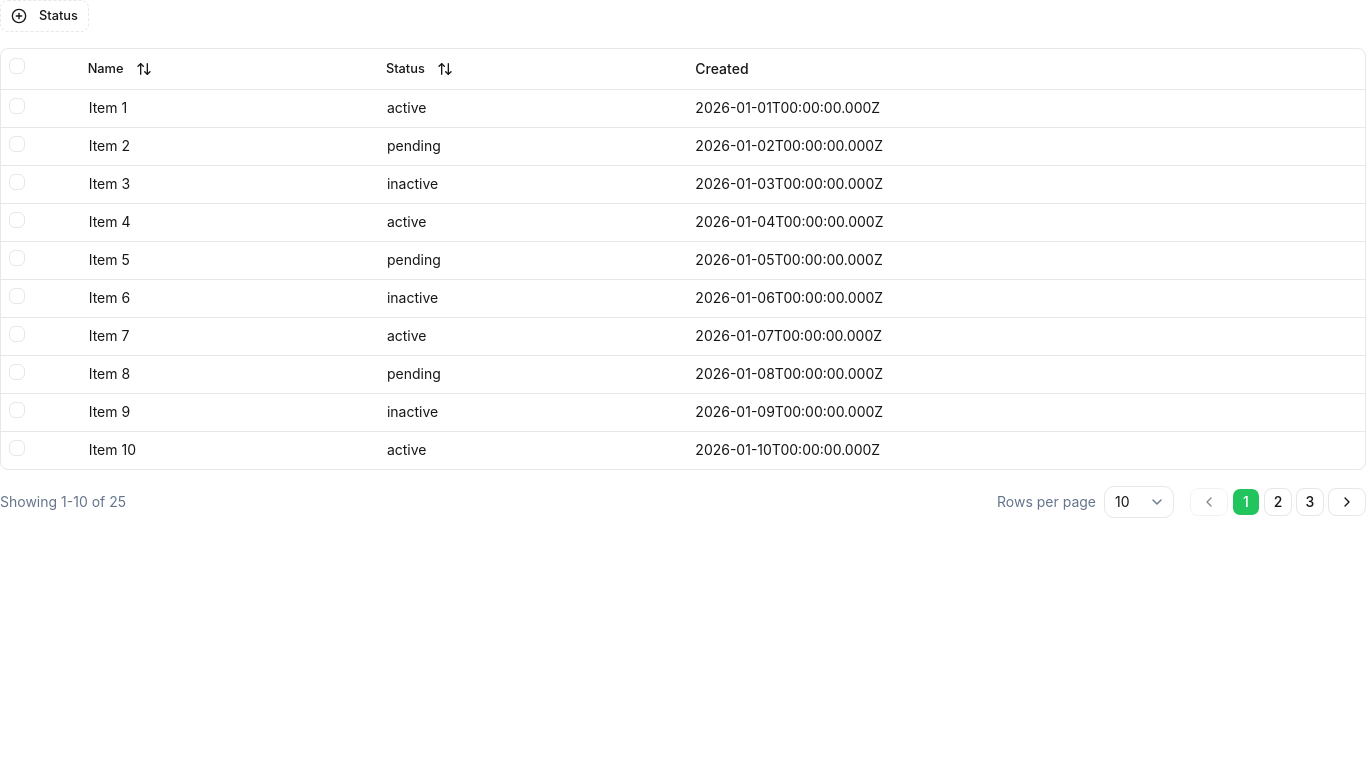
Test: DataTable component system › FOUND-01e: faceted filter chip opens popover and filters rows
Click the 1st button "Status" at (44, 16), box [0,0,89,32]
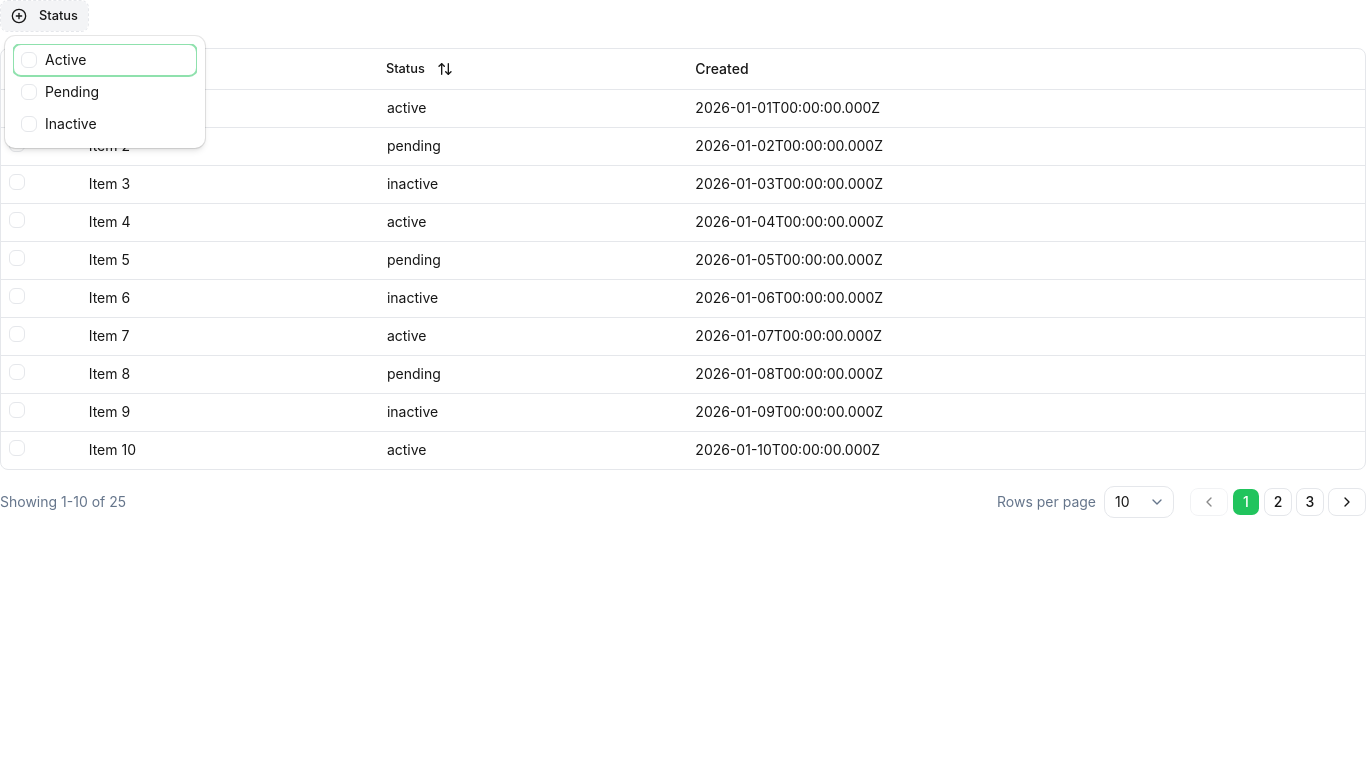
Now the checkbox named "Filter by Active" is shown, box [21,52,37,68]
// Click the Active filter button (wrapping the checkbox)
Click the button named "Filter by Active" at (105, 60), box [13,44,197,76]
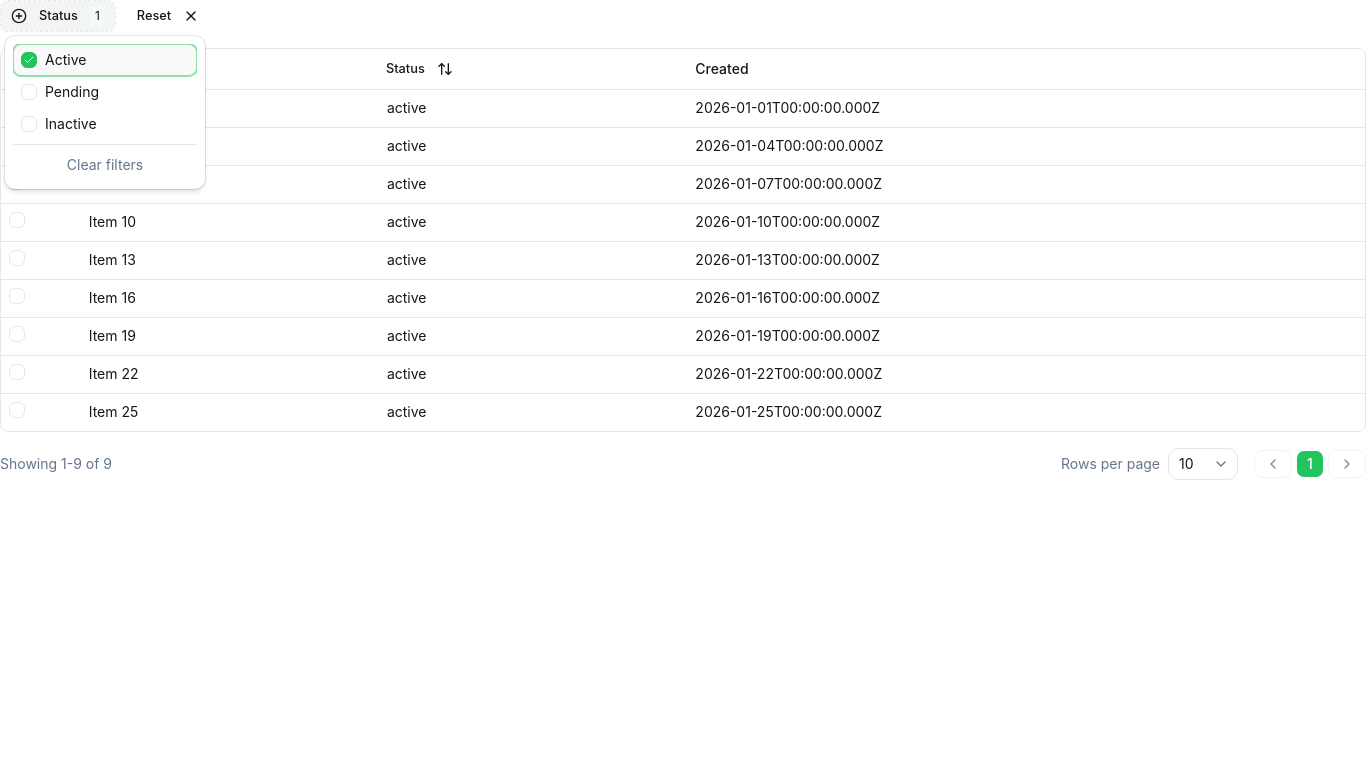
Now the text "active" in the row of "Item 13" is shown, box [387,251,426,268]
Now the text "active" in the row of "Item 16" is shown, box [387,289,426,306]
Now the text "active" in the row of "Item 22" is shown, box [387,365,426,382]
